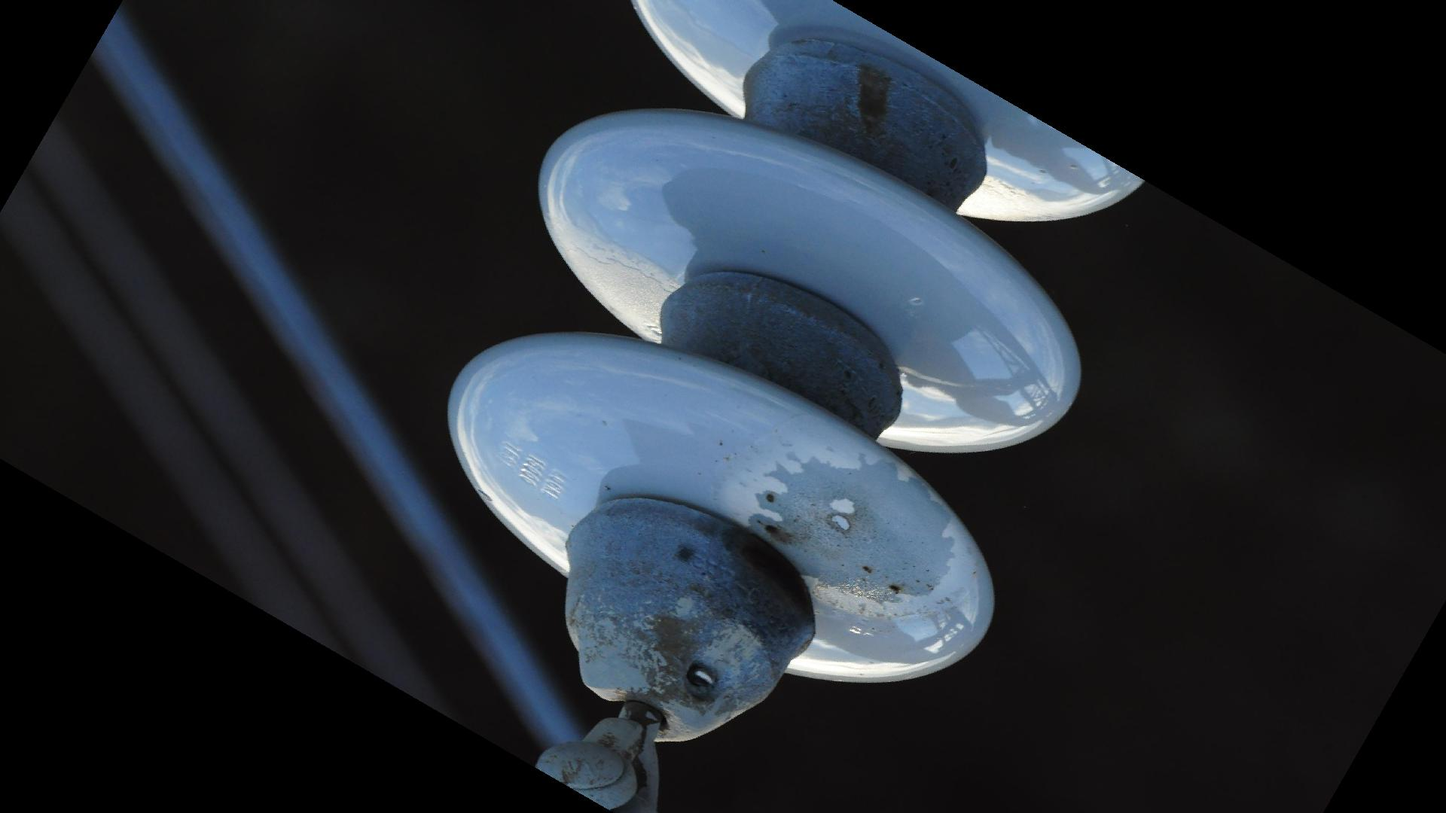insulator: (438, 1, 1145, 696)
insulator_flashover: (744, 450, 967, 607)
